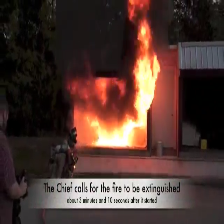fire_h: (75, 16, 160, 147), (67, 74, 126, 106)
fire_l: (128, 1, 151, 22)
